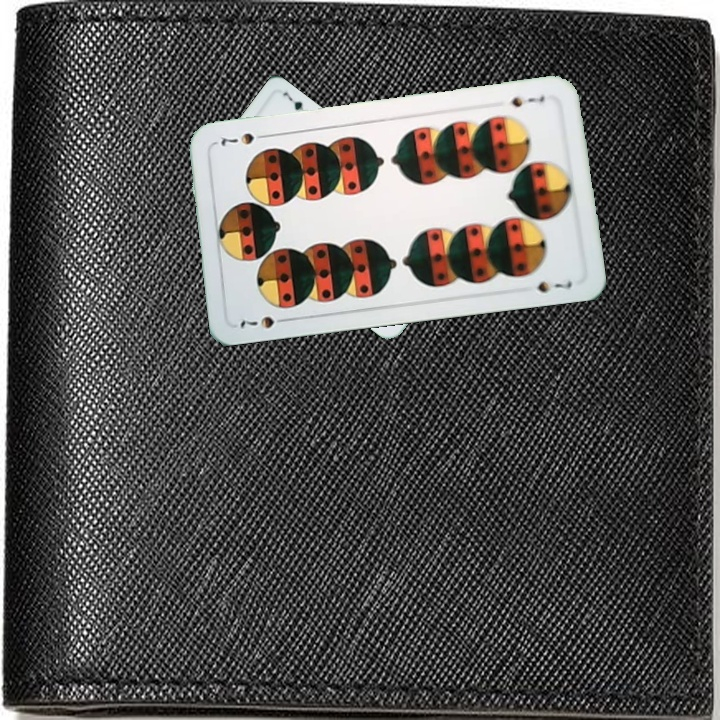S7: (233, 312, 293, 333), (503, 91, 547, 110)
